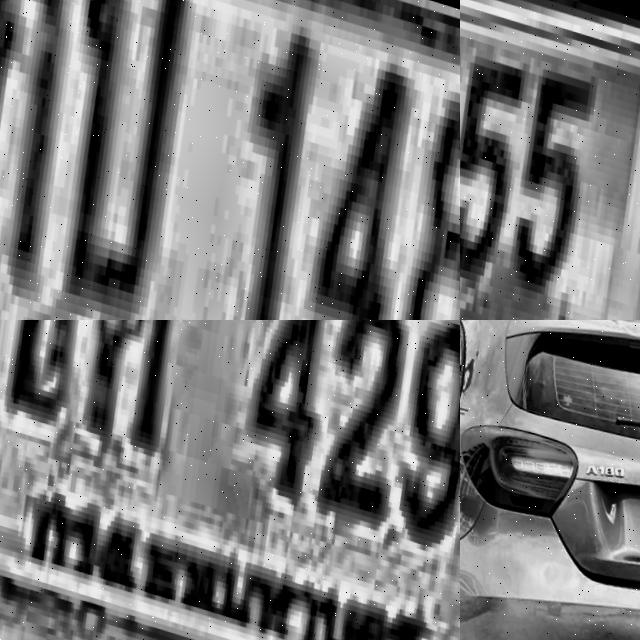license-plate: (0, 0, 460, 320), (0, 320, 460, 640), (460, 0, 640, 320)
